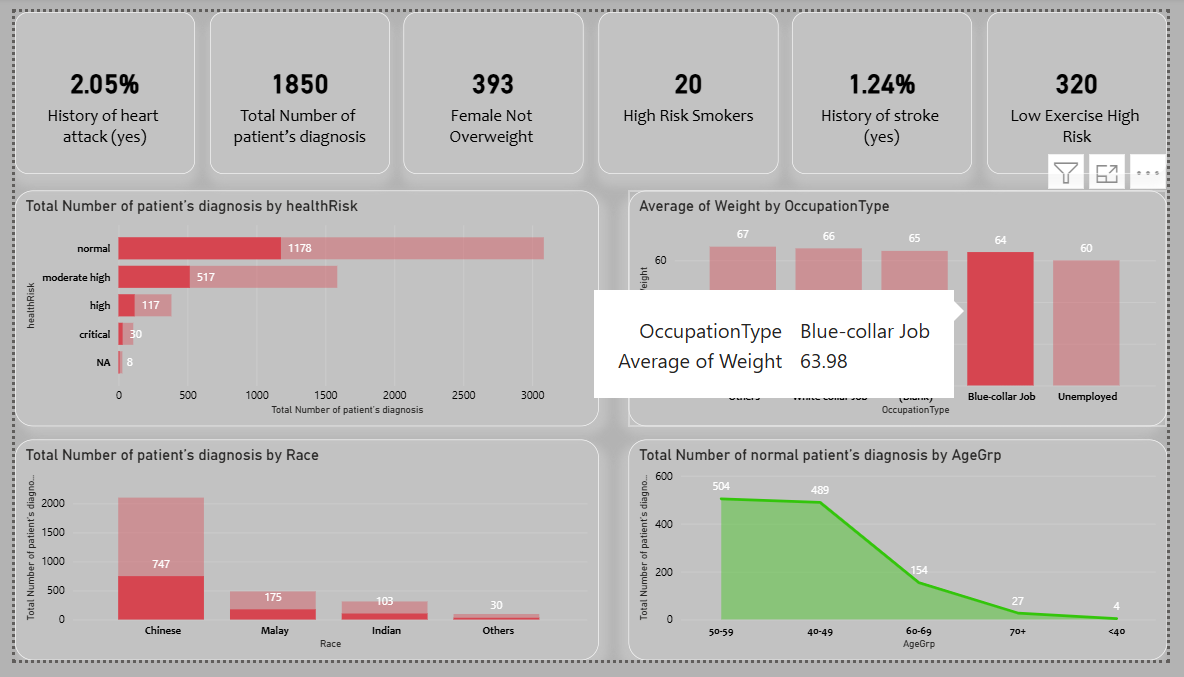

What the dashboard file says about the page in this screenshot:
{"tool":"powerbi","page":{"name":"Page 1","canvas":[1280,720],"ordinal":0},"visuals":[{"type":"card","fields":{"Values":["Patient History.1.Total Number of patient’s diagnosis"]},"box":[216,0,200,180],"z":0},{"type":"card","fields":{"Values":["Patient History.percentage of history of heart attack"]},"box":[0,0,200,180],"z":1000},{"type":"card","fields":{"Values":["Patient History.Female Not Overweight Count"]},"box":[432,0,200,180],"z":2000},{"type":"clusteredBarChart","fields":{"Category":["Patient History.healthRisk"],"Y":["Patient History.Total Number of patient’s diagnosis"]},"box":[0,198.3,648.3,261.7],"z":3000},{"type":"clusteredColumnChart","fields":{"Category":["Patient History.OccupationType"],"Y":["Avg(Patient History.Weight)"]},"box":[681.7,198.3,598.3,261.7],"z":4000},{"type":"clusteredColumnChart","fields":{"Category":["Patient History.Race"],"Y":["Patient History.Total Number of patient’s diagnosis"]},"box":[0,475,648.3,245],"z":5000},{"type":"areaChart","title":"Total Number of normal patient’s diagnosis by AgeGrp","fields":{"Y":["Patient History.Total Number of patient’s diagnosis"],"Category":["Patient History.AgeGrp"]},"box":[681.7,475,598.3,245],"z":6000},{"type":"card","fields":{"Values":["Patient History.High Risk Smokers"]},"box":[648,0,200,180],"z":7000},{"type":"card","fields":{"Values":["Patient History.percentage of history of stroke"]},"box":[864,0,200,180],"z":8000},{"type":"card","fields":{"Values":["Patient History.Low Exercise High Risk"]},"box":[1080,0,200,180],"z":9000}]}

Visuals, with their boxes in screenshot pixels (x1, y1, x2, y2), scaled from the page's 1280x720 canvas onto the 1184x677 screenshot:
card - Patient History.1.Total Number of patient’s diagnosis: [200, 0, 385, 169]
card - Patient History.percentage of history of heart attack: [0, 0, 185, 169]
card - Patient History.Female Not Overweight Count: [400, 0, 585, 169]
clusteredBarChart - Patient History.healthRisk x Patient History.Total Number of patient’s diagnosis: [0, 186, 600, 433]
clusteredColumnChart - Patient History.OccupationType x Avg(Patient History.Weight): [631, 186, 1183, 433]
clusteredColumnChart - Patient History.Race x Patient History.Total Number of patient’s diagnosis: [0, 447, 600, 676]
"Total Number of normal patient’s diagnosis by AgeGrp" areaChart: [631, 447, 1183, 676]
card - Patient History.High Risk Smokers: [599, 0, 784, 169]
card - Patient History.percentage of history of stroke: [799, 0, 984, 169]
card - Patient History.Low Exercise High Risk: [999, 0, 1183, 169]
